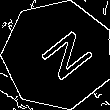N_SW: (25, 24, 91, 87)
